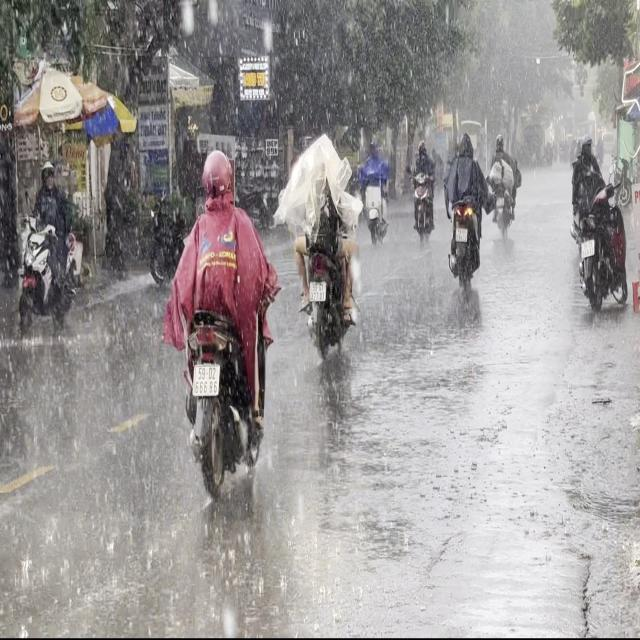helmet: (200, 149, 232, 206), (457, 130, 472, 156), (40, 161, 54, 187)
licenseplate: (163, 146, 278, 512), (277, 111, 360, 362), (444, 128, 485, 286)
nohelmet: (193, 363, 219, 395), (309, 281, 325, 300), (455, 227, 467, 241)
